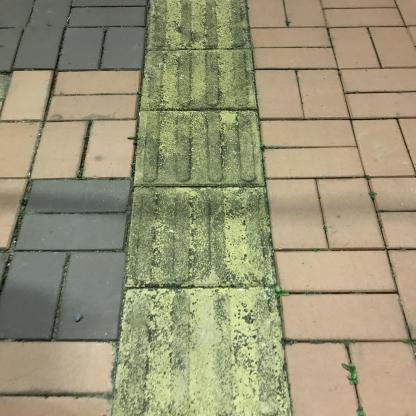podotacti: (93, 0, 307, 415)
